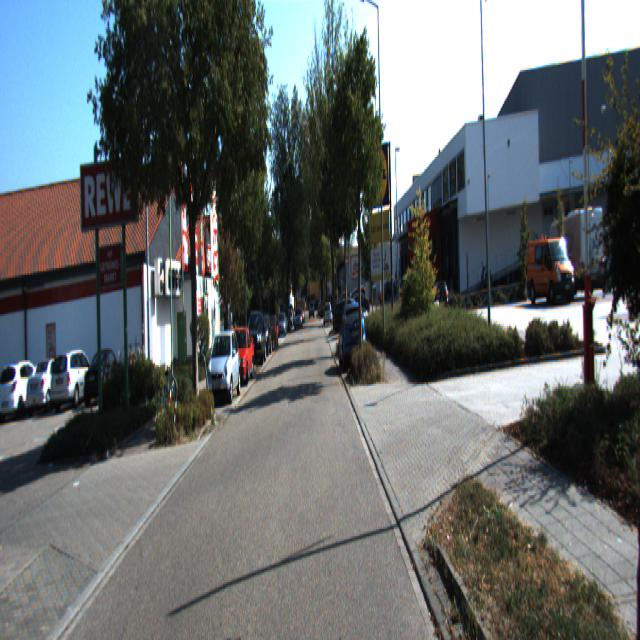Car: (526, 226, 578, 305), (50, 347, 102, 414), (0, 360, 51, 422), (27, 357, 76, 418), (206, 328, 241, 406), (338, 300, 366, 370), (226, 324, 254, 386), (245, 311, 267, 368), (255, 313, 273, 359)
